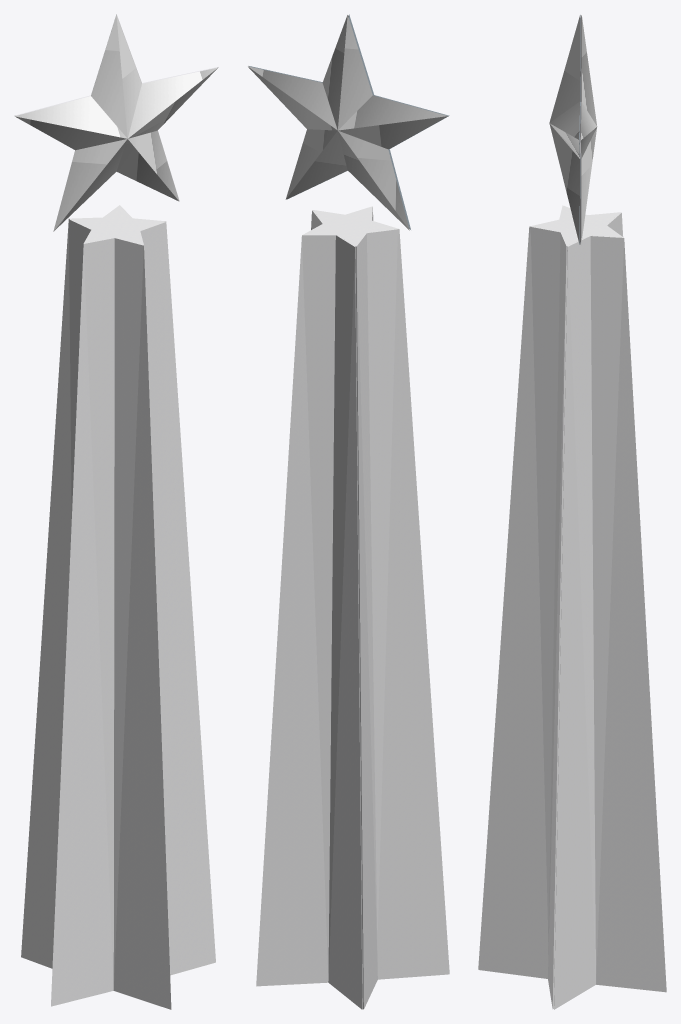
File: obelisk_of_eternal_glory.glb
The picture shows the model from 3 angles, left to right: view 1: azimuth 30°, elevation 25°; view 2: azimuth 150°, elevation 25°; view 3: azimuth 270°, elevation 25°; orthographic projection.
Visible parts, largest first — view 1: Material2 (×2); view 2: Material2 (×2), Material3; view 3: Material2 (×2).
Boxes of the visible parts, x1,y1,x2,y2 form: Material2 (×2): (15, 15, 217, 1009); Material2 (×2): (248, 15, 449, 1009); Material3: (249, 14, 449, 229); Material2 (×2): (478, 15, 666, 1009).
Size of the model in its own units: 254 by 1142 by 205.
5 materials, 5 textured.
